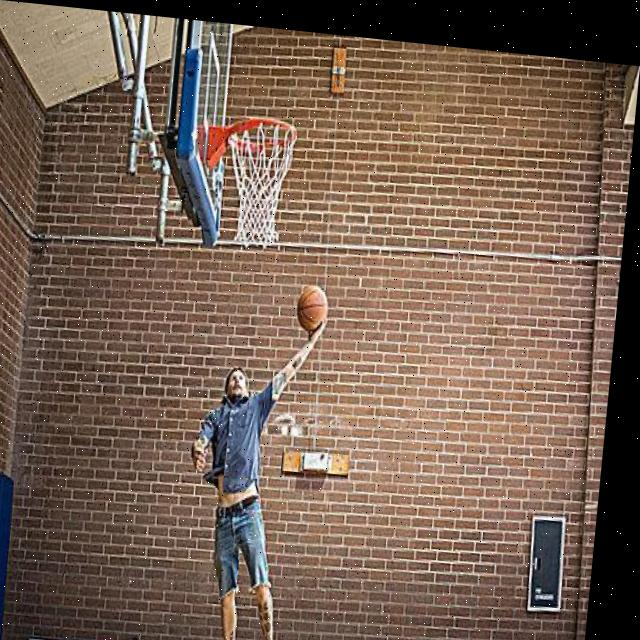basketball: (296, 284, 330, 335)
hoop: (217, 113, 299, 246)
